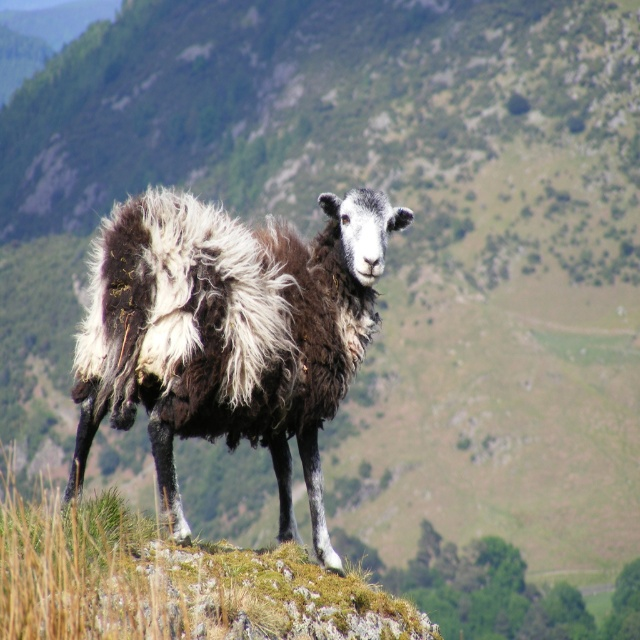Sheep: (56, 183, 415, 577)
